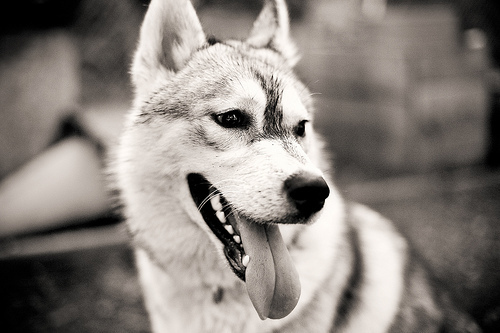dog: (105, 1, 483, 332)
